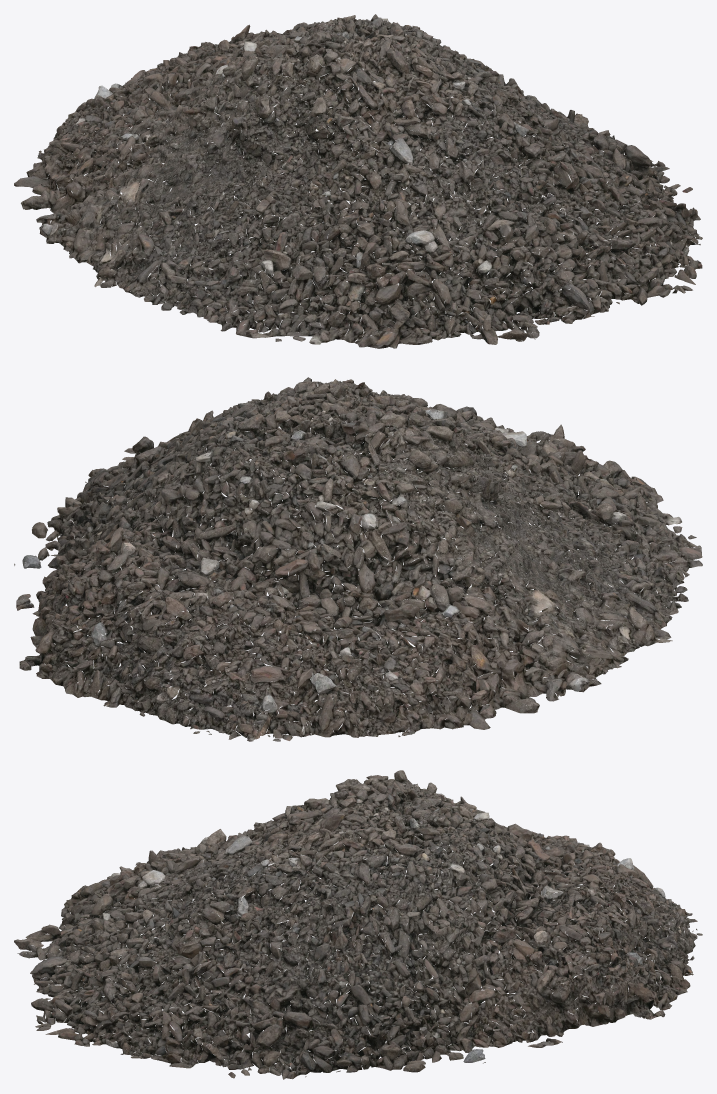
The model's file is coal-pile1.glb.
3 views of the same model, one above another, from view 1: azimuth 30°, elevation 25°; view 2: azimuth 150°, elevation 25°; view 3: azimuth 270°, elevation 25° (orthographic). The views are drawn at different scales.
Parts seen in each view (by area): view 1: Model_material3_0, Model_material1_0, Model_material0_0, Model_material2_0; view 2: Model_material1_0, Model_material0_0, Model_material3_0, Model_material2_0; view 3: Model_material0_0, Model_material3_0, Model_material2_0, Model_material1_0.
Part boxes in pixels (x1,y1,x2,y2): Model_material3_0: [37, 14, 697, 344]; Model_material1_0: [26, 17, 702, 348]; Model_material0_0: [21, 15, 702, 348]; Model_material2_0: [14, 14, 700, 344]; Model_material1_0: [16, 379, 699, 738]; Model_material0_0: [14, 381, 702, 737]; Model_material3_0: [19, 377, 698, 741]; Model_material2_0: [16, 379, 696, 741]; Model_material0_0: [26, 778, 697, 1074]; Model_material3_0: [14, 778, 695, 1075]; Model_material2_0: [17, 770, 702, 1079]; Model_material1_0: [19, 770, 697, 1079].
Size of the model in its own units: 11.34 by 3.23 by 12.91.
4 materials, 4 textured.
